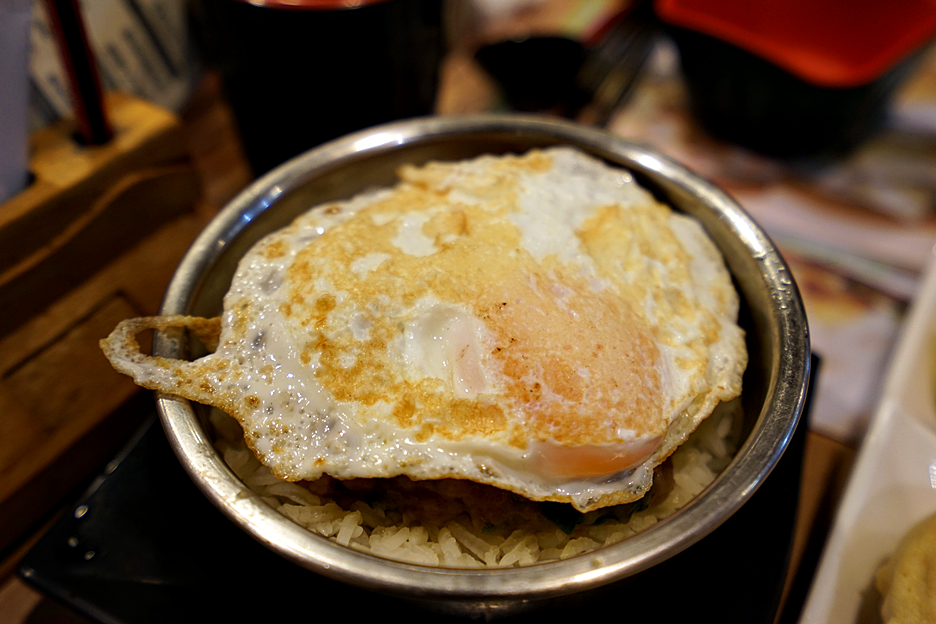fried egg: (237, 201, 720, 466)
